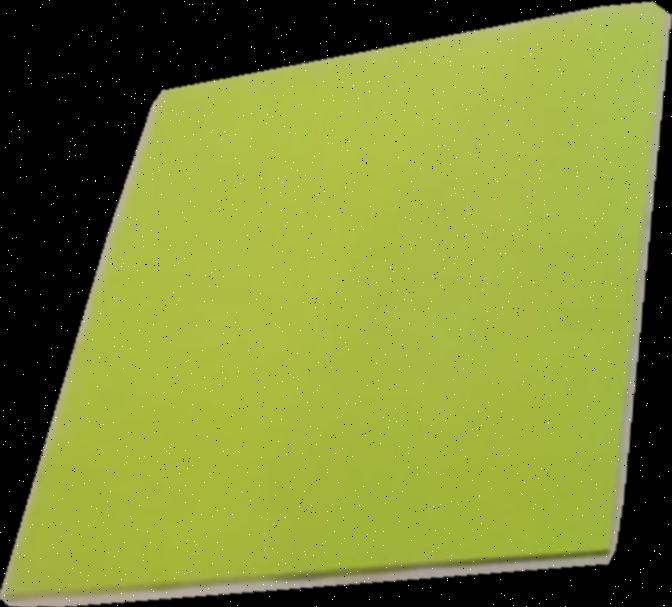Boxes: (0, 1, 672, 606)
